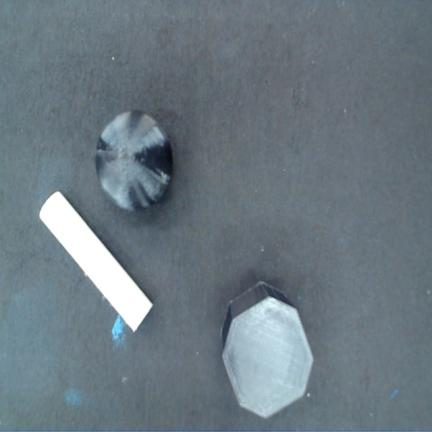Cilindro: (39, 192, 153, 333)
Esfera: (95, 111, 172, 211)
Prisma_hexagonal: (221, 281, 314, 420)
